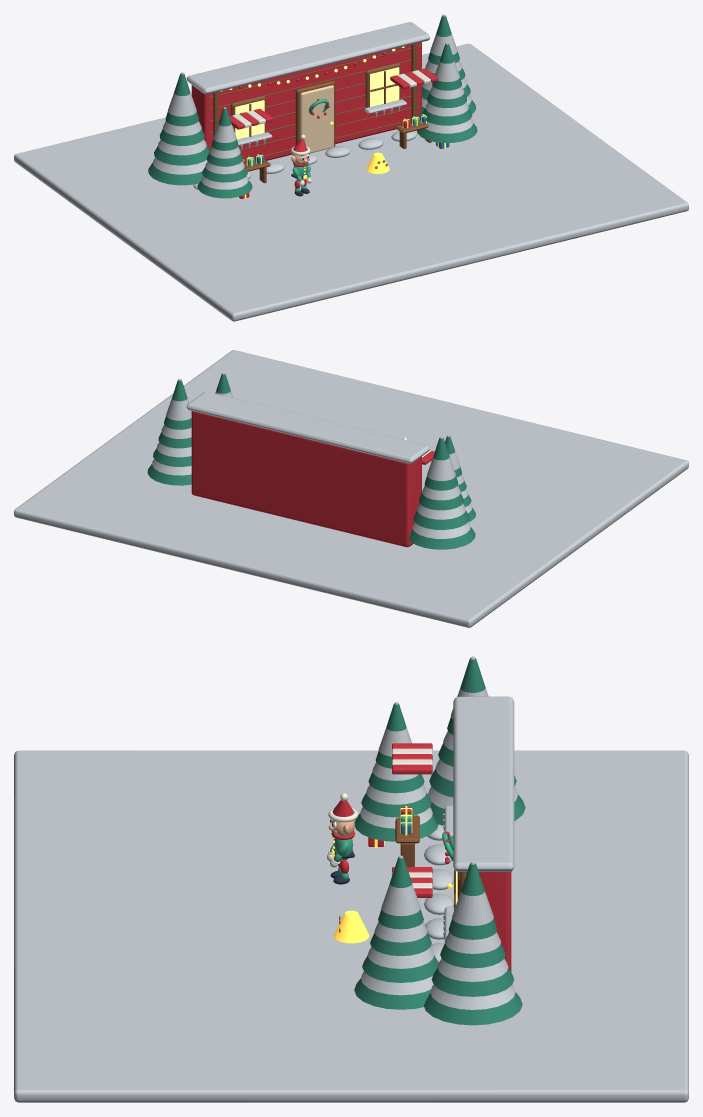
The model's file is chapter-14.glb.
3 renders of one model, top to bottom at view 1: azimuth 30°, elevation 25°; view 2: azimuth 150°, elevation 25°; view 3: azimuth 270°, elevation 25°, orthographic. The views are drawn at different scales.
Parts seen in each view (by area): view 1: Schneeboden, Werkstatt, Schneegesims, Wichteltür, Warmes Fenster.001, Tannenzweig.008, Tannenzweig.009, Türrahmen, Tannenzweig.004, Tannenzweig.011, Warmes Fenster, Schnee.011 (+6 smaller); view 2: Schneeboden, Werkstatt, Schneegesims, Tannenzweig.008, Tannenzweig.009, Tannenzweig.011, Schnee.008, Schnee.011, Tannenzweig.015, Tannenzweig.012, Tannenzweig.010, Schnee.009 (+1 smaller); view 3: Schneeboden, Schneegesims, Werkstatt, Tannenzweig.012, Tannenzweig.013, Tannenzweig.015, Schnee.012, Tannenzweig.005, Tannenzweig.004, Schnee.015, Tannenzweig.007, Schnee.013 (+13 smaller).
Boxes of the visible parts, <box> form: Schneeboden: <box>14,43,688,321</box>; Werkstatt: <box>191,42,421,162</box>; Schneegesims: <box>186,22,429,94</box>; Wichteltür: <box>300,85,333,153</box>; Warmes Fenster.001: <box>370,67,399,106</box>; Tannenzweig.008: <box>148,163,202,185</box>; Tannenzweig.009: <box>154,146,209,165</box>; Türrahmen: <box>295,81,335,146</box>; Tannenzweig.004: <box>417,122,477,142</box>; Tannenzweig.011: <box>165,73,198,126</box>; Warmes Fenster: <box>235,100,264,139</box>; Schnee.011: <box>168,72,196,116</box>; Schneeboden: <box>14,350,688,627</box>; Werkstatt: <box>191,411,421,547</box>; Schneegesims: <box>186,391,429,463</box>; Tannenzweig.008: <box>408,527,475,549</box>; Tannenzweig.009: <box>413,510,469,529</box>; Tannenzweig.011: <box>424,437,458,490</box>; Schnee.008: <box>412,522,470,538</box>; Schnee.011: <box>427,436,455,480</box>; Tannenzweig.015: <box>164,380,191,429</box>; Tannenzweig.012: <box>147,464,191,485</box>; Tannenzweig.010: <box>419,493,463,510</box>; Schnee.009: <box>417,504,465,519</box>; Schneeboden: <box>14,750,688,1102</box>; Schneegesims: <box>453,696,514,871</box>; Werkstatt: <box>466,871,511,971</box>; Tannenzweig.012: <box>424,992,522,1025</box>; Tannenzweig.013: <box>431,968,514,996</box>; Tannenzweig.015: <box>448,863,497,939</box>; Schnee.012: <box>430,985,515,1009</box>; Tannenzweig.005: <box>362,955,438,982</box>; Tannenzweig.004: <box>354,978,430,1009</box>; Schnee.015: <box>452,861,493,925</box>; Tannenzweig.007: <box>378,857,423,929</box>; Schnee.013: <box>437,959,508,981</box>.
Bounding box in the file's own units: 18 × 4.39 × 15.
